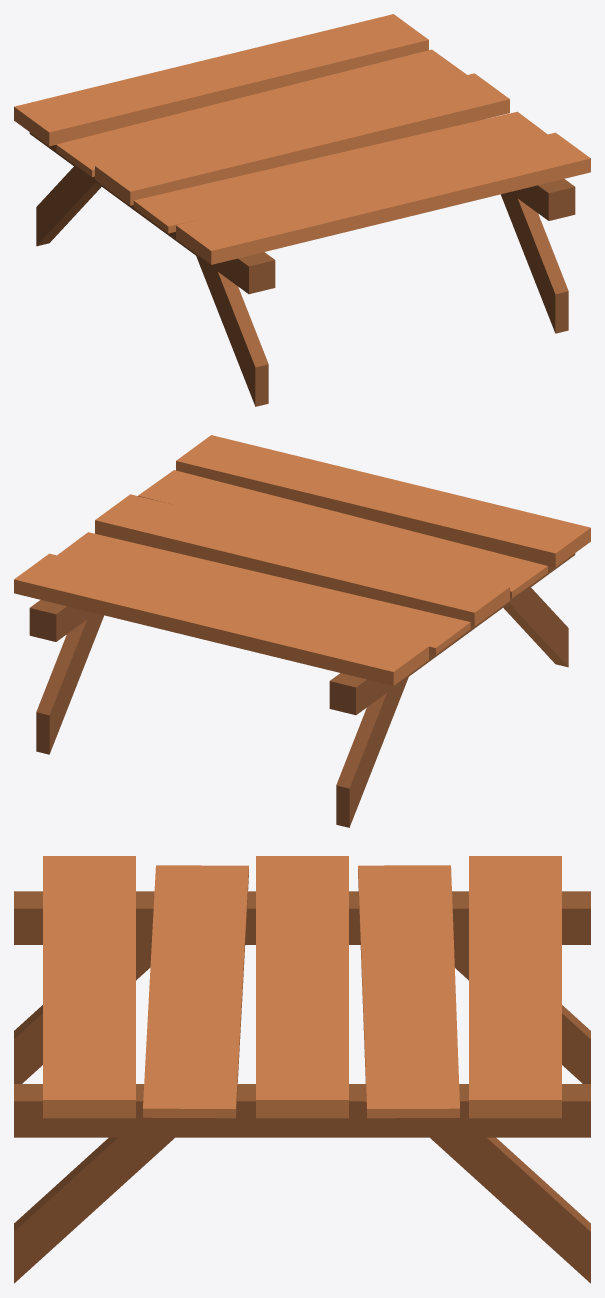
File: bridge.dae
3 views of the same model, one above another, from view 1: azimuth 30°, elevation 25°; view 2: azimuth 150°, elevation 25°; view 3: azimuth 270°, elevation 25° (orthographic). The views are drawn at different scales.
Visible parts, largest first — view 1: bridge; view 2: bridge; view 3: bridge.
Part boxes in pixels (x1=…): bridge: x1=14, y1=14, x2=590, y2=406; bridge: x1=14, y1=435, x2=590, y2=827; bridge: x1=14, y1=856, x2=590, y2=1283.
Size of the model in its own units: 1 by 0.3925 by 1.
